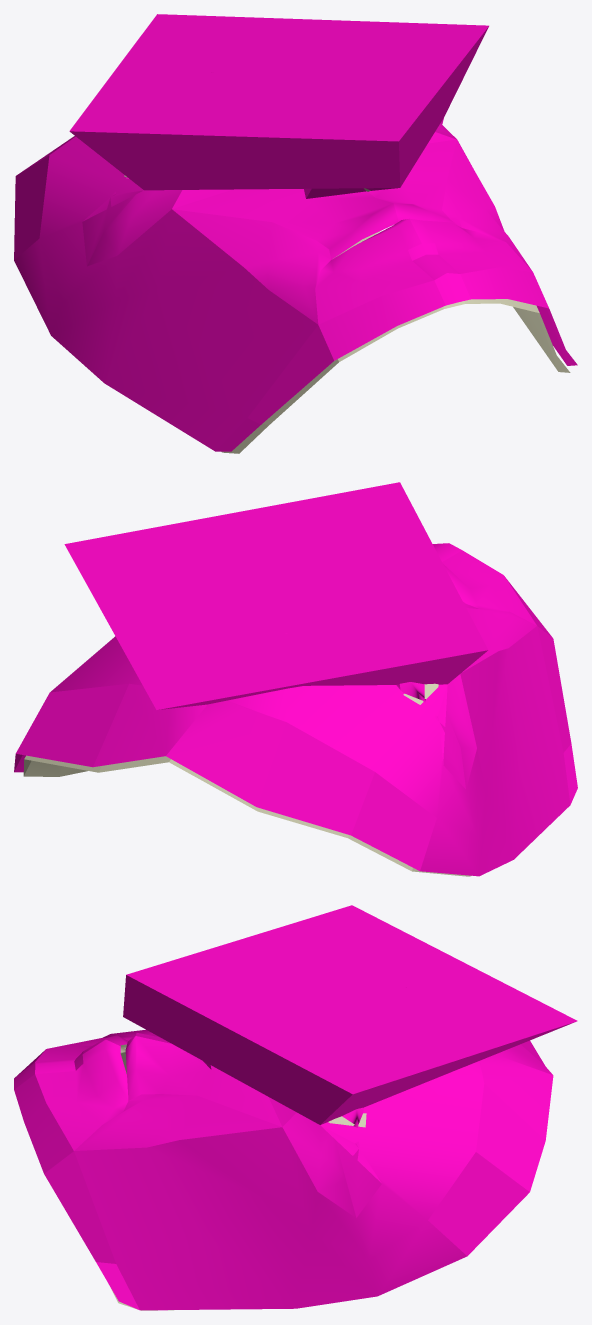
File: Mask_Diamond.fbx
3 renders of one model, top to bottom at view 1: azimuth 30°, elevation 25°; view 2: azimuth 150°, elevation 25°; view 3: azimuth 270°, elevation 25°, orthographic. The views are drawn at different scales.
Parts seen in each view (by area): view 1: Outline_Diamond, Diamond_Mask; view 2: Outline_Diamond, Diamond_Mask; view 3: Outline_Diamond.
Part boxes in pixels (bbox=[...]): Outline_Diamond: bbox=[14, 14, 577, 451]; Diamond_Mask: bbox=[124, 175, 570, 453]; Outline_Diamond: bbox=[14, 482, 577, 876]; Diamond_Mask: bbox=[23, 683, 471, 876]; Outline_Diamond: bbox=[14, 905, 577, 1310].
Size of the model in its own units: 87.92 by 54.83 by 108.
